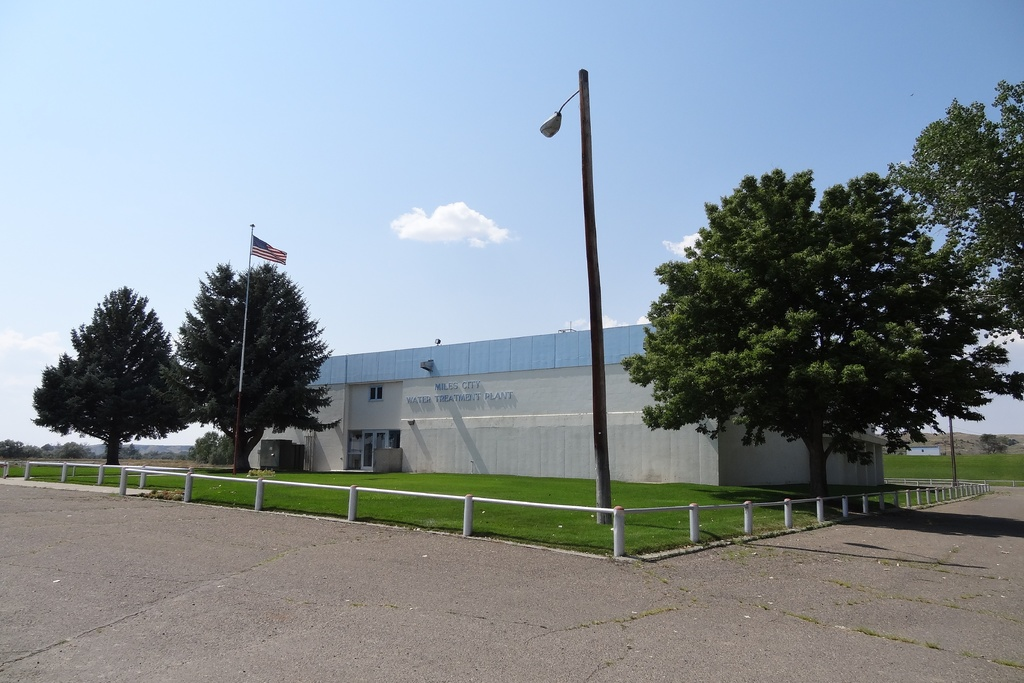Tree: (619, 168, 1023, 499), (174, 263, 341, 474), (890, 78, 1023, 342), (34, 286, 197, 467), (0, 438, 89, 461), (181, 429, 237, 465), (974, 433, 1010, 459), (101, 444, 139, 463)
